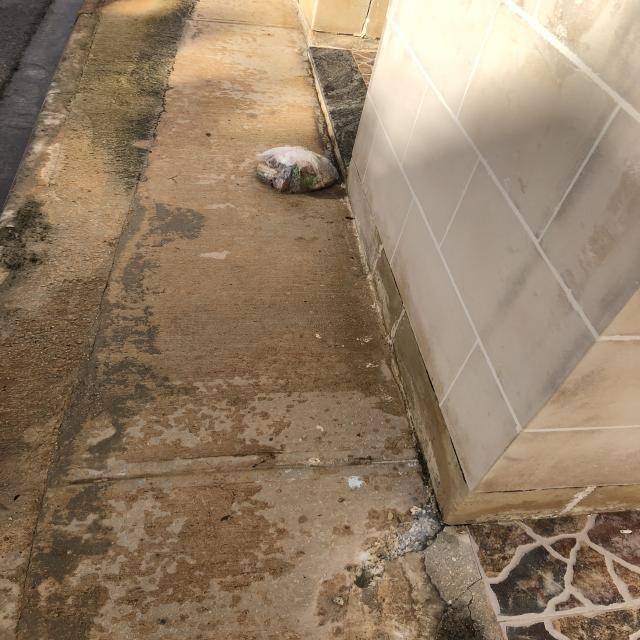Organic Waste -White Bag-: (245, 135, 342, 205)
